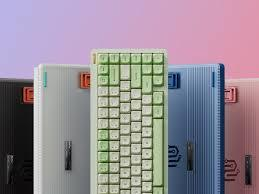keyboard: (89, 47, 168, 193)
